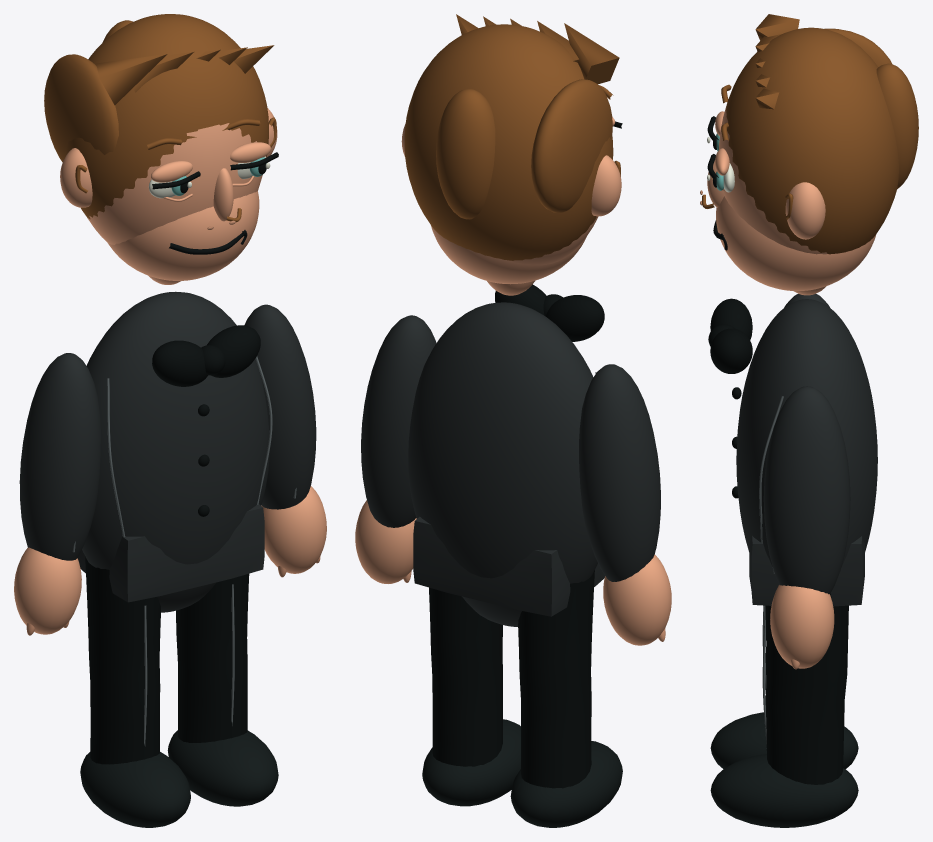
Rendered from Josiah Richards.glb.
The picture shows the model from 3 angles, left to right: view 1: azimuth 30°, elevation 25°; view 2: azimuth 150°, elevation 25°; view 3: azimuth 270°, elevation 25°; orthographic projection. The views are drawn at different scales.
Parts seen in each view (by area): view 1: Torso, Head, LeftLeg, LeftArm, RightLeg, RightArm; view 2: Torso, Head, LeftArm, LeftLeg, RightLeg, RightArm; view 3: Head, Torso, RightArm, RightLeg, LeftLeg, Tailored side seam.
Boxes of the visible parts, <box> form: Torso: <box>77,291,269,612</box>; Head: <box>44,14,278,284</box>; LeftLeg: <box>80,556,190,827</box>; LeftArm: <box>14,353,100,634</box>; RightLeg: <box>167,573,278,806</box>; RightArm: <box>244,304,326,573</box>; Torso: <box>408,284,604,626</box>; Head: <box>401,14,622,295</box>; LeftArm: <box>579,364,671,645</box>; LeftLeg: <box>510,570,622,827</box>; RightLeg: <box>422,587,520,806</box>; RightArm: <box>355,315,436,583</box>; Head: <box>702,14,918,295</box>; Torso: <box>708,298,877,606</box>; RightArm: <box>763,386,850,668</box>; RightLeg: <box>710,593,858,827</box>; LeftLeg: <box>710,647,858,769</box>; Tailored side seam: <box>759,396,783,543</box>.
Size of the model in its own units: 1.08 by 2.63 by 0.6803.
